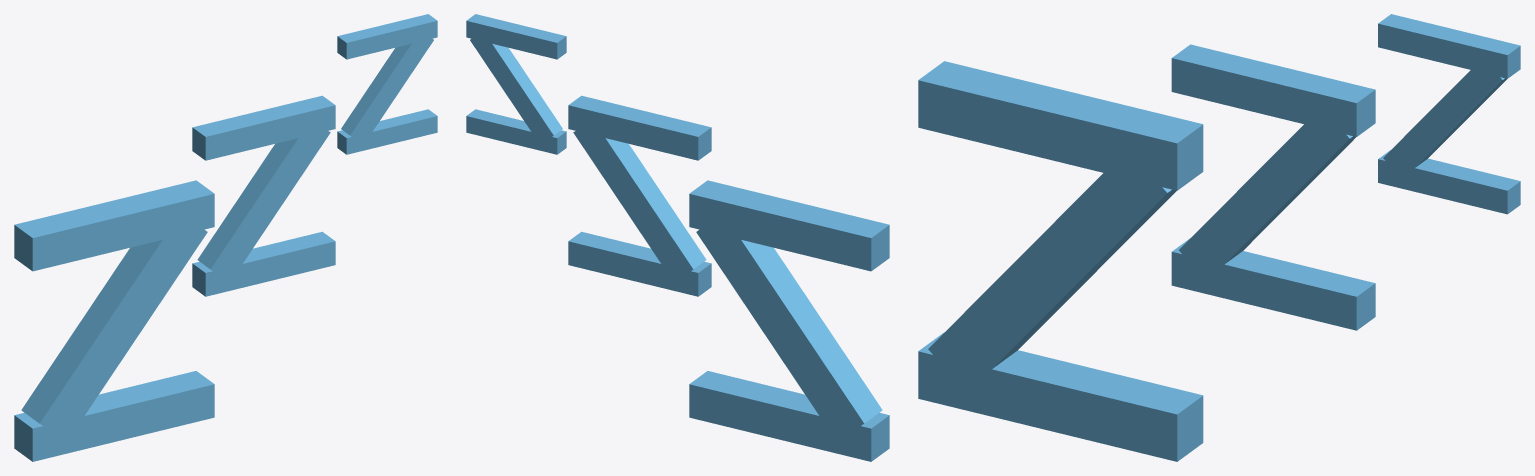
Rendered from Item_AlmostAsleep.obj.
The picture shows the model from 3 angles, left to right: view 1: azimuth 30°, elevation 25°; view 2: azimuth 150°, elevation 25°; view 3: azimuth 330°, elevation 25°; orthographic projection. The views are drawn at different scales.
Parts seen in each view (by area): view 1: Item_AlmostAsleep; view 2: Item_AlmostAsleep; view 3: Item_AlmostAsleep.
Part boxes in pixels (<box>): Item_AlmostAsleep: <box>14,14,437,461</box>; Item_AlmostAsleep: <box>466,14,889,461</box>; Item_AlmostAsleep: <box>918,14,1520,461</box>.
Size of the model in its own units: 0.63 by 0.4968 by 0.049.
